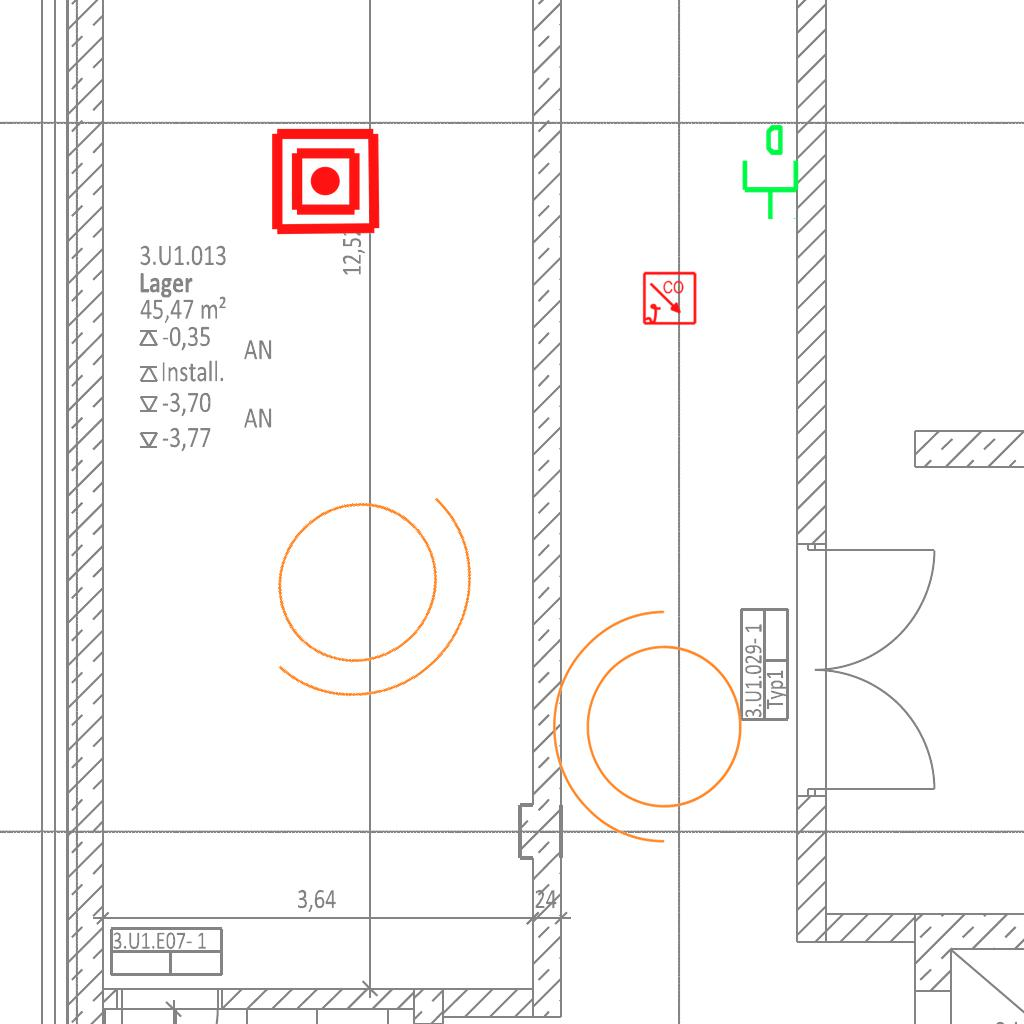Datenanschluss_einfach: (734, 122, 803, 222)
NAM-Nichtautomatischer_Melder: (269, 125, 382, 238)
ROA_Rauchmelder_optisch_mit_Signalgeber_(Sockelsirene): (642, 271, 698, 327)
Scheinwerfer_fuer_Alarmbeleuchtung: (196, 411, 542, 758), (542, 601, 767, 865)
